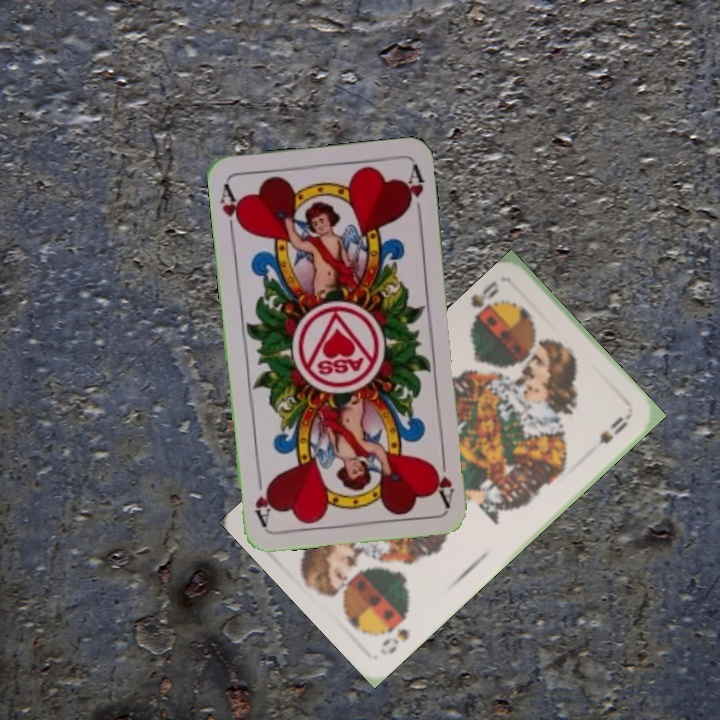HA: (216, 179, 246, 238), (429, 450, 457, 509)
SO: (467, 276, 501, 330), (378, 612, 412, 657)
